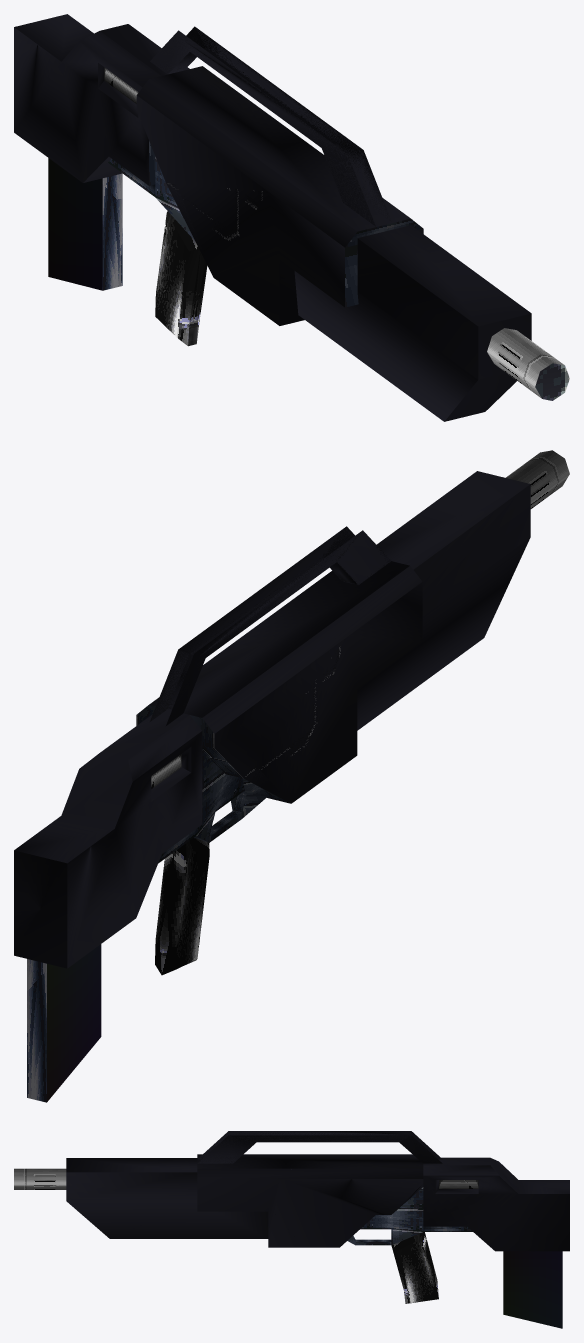
File: 0f-k7-avenger-fp.glb
3 renders of one model, top to bottom at view 1: azimuth 30°, elevation 25°; view 2: azimuth 150°, elevation 25°; view 3: azimuth 270°, elevation 25°, orthographic. The views are drawn at different scales.
Visible parts, largest first — view 1: gun; view 2: gun; view 3: gun.
Boxes of the visible parts, x1,y1,x2,y2 form: gun: (14,14,569,421); gun: (14,450,569,1102); gun: (14,1131,569,1328).
Bounding box in the file's own units: 75.72 × 323 × 857.
Materials: 12 (12 with a texture image).
